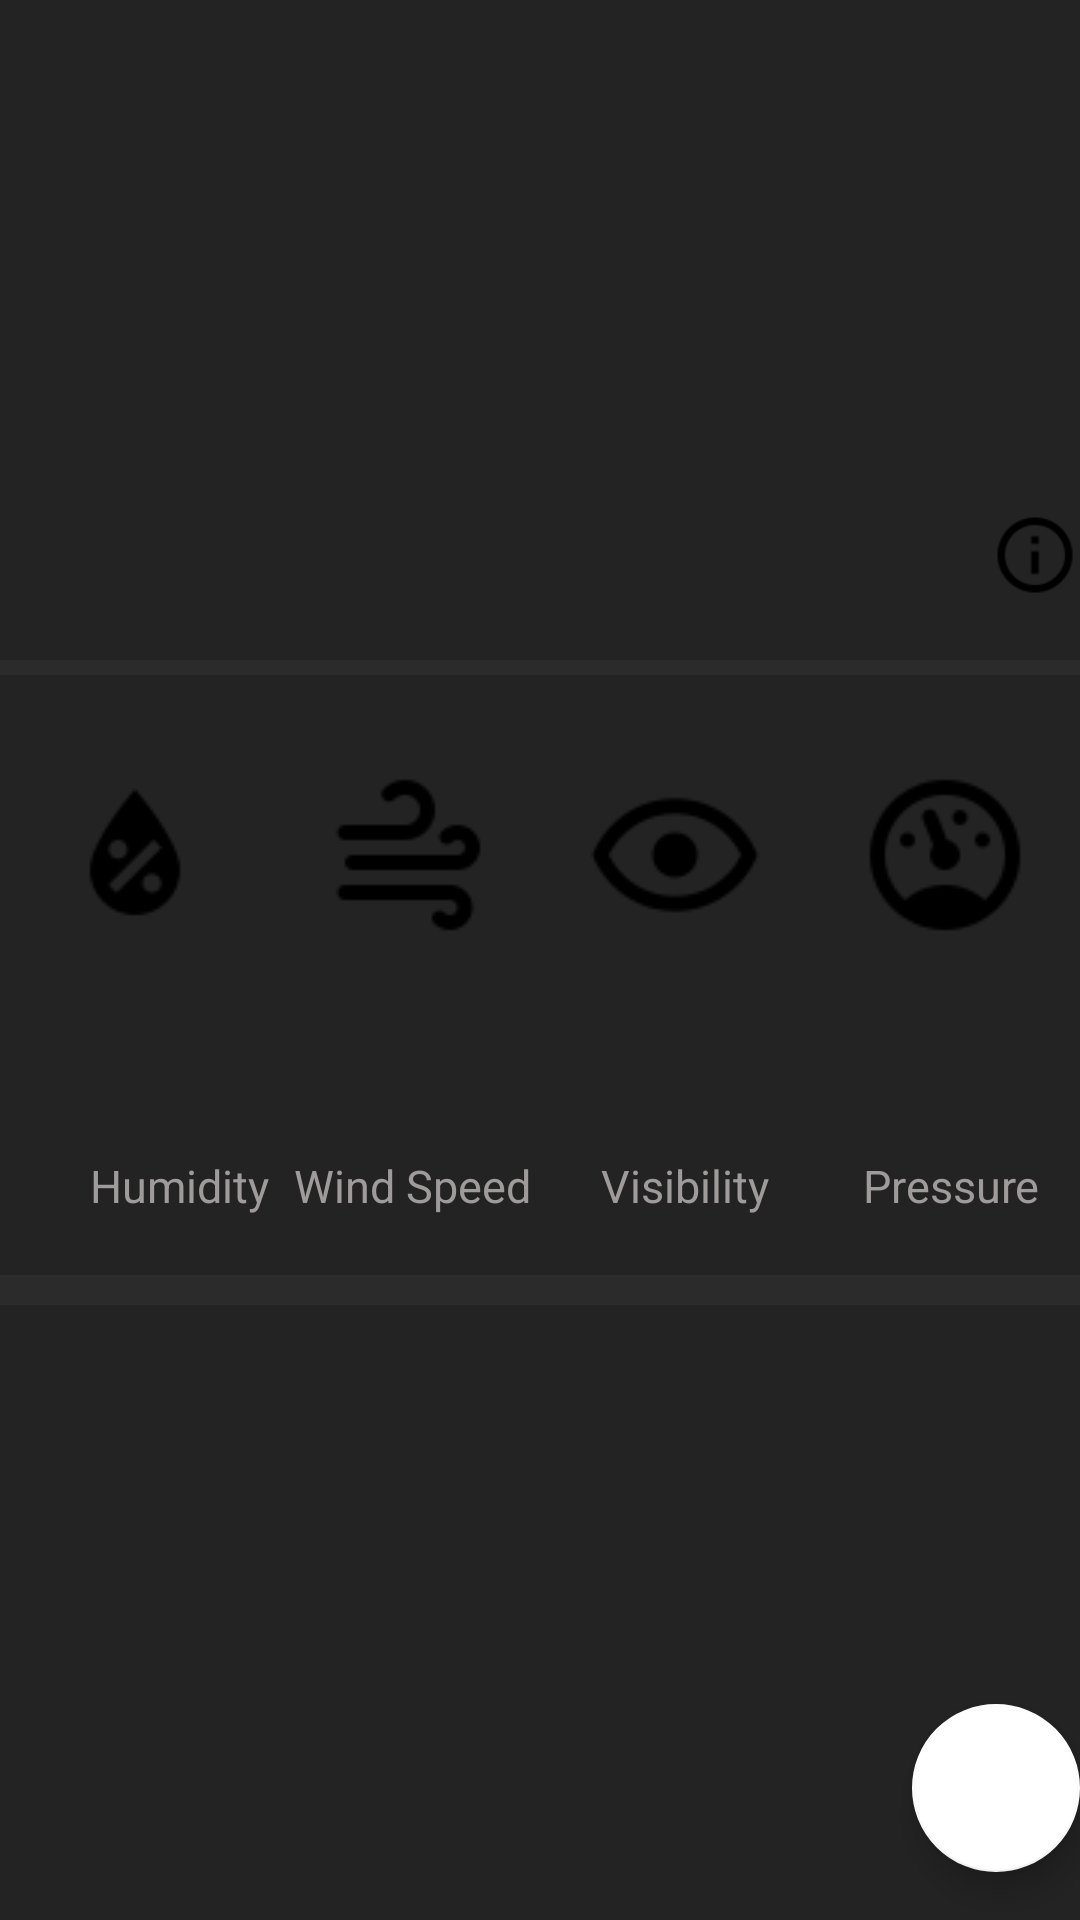

Icon click points for this 1080 x 1920 phone screenshot, format (x,y):
eye: (675,855)
gauge: (945,855)
information: (1035,555)
water percent: (135,853)
weather windy: (409,855)
